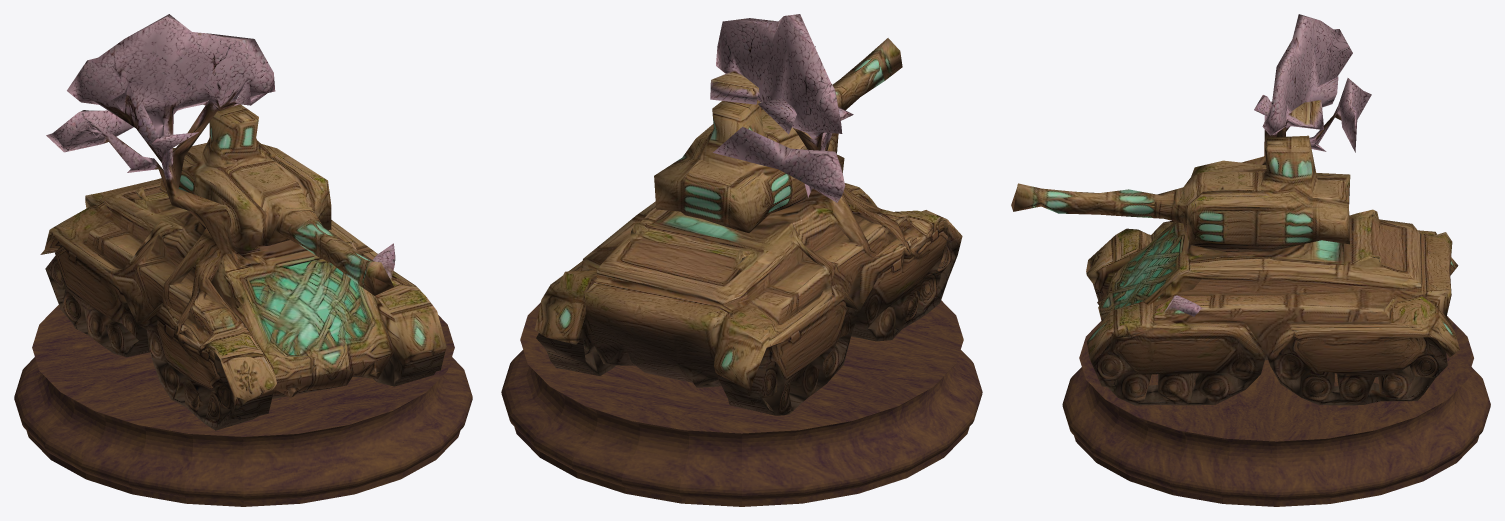
The model's file is oliver.glb.
3 renders of one model, left to right at view 1: azimuth 30°, elevation 25°; view 2: azimuth 150°, elevation 25°; view 3: azimuth 270°, elevation 25°, orthographic. The views are drawn at different scales.
Parts seen in each view (by area): view 1: tripo_node_03e69396-e79a-4875-987d-14295331f168, BézierCurve; view 2: tripo_node_03e69396-e79a-4875-987d-14295331f168, BézierCurve; view 3: tripo_node_03e69396-e79a-4875-987d-14295331f168, BézierCurve.
Part boxes in pixels (x1,y1,x2,y2): tripo_node_03e69396-e79a-4875-987d-14295331f168: (40,14,446,430); BézierCurve: (14,305,472,506); tripo_node_03e69396-e79a-4875-987d-14295331f168: (534,14,962,415); BézierCurve: (501,300,982,506); tripo_node_03e69396-e79a-4875-987d-14295331f168: (1011,14,1459,405); BézierCurve: (1062,316,1490,506).
Size of the model in its own units: 0.9545 by 0.9205 by 1.07.
Materials: 2 (2 with a texture image).
